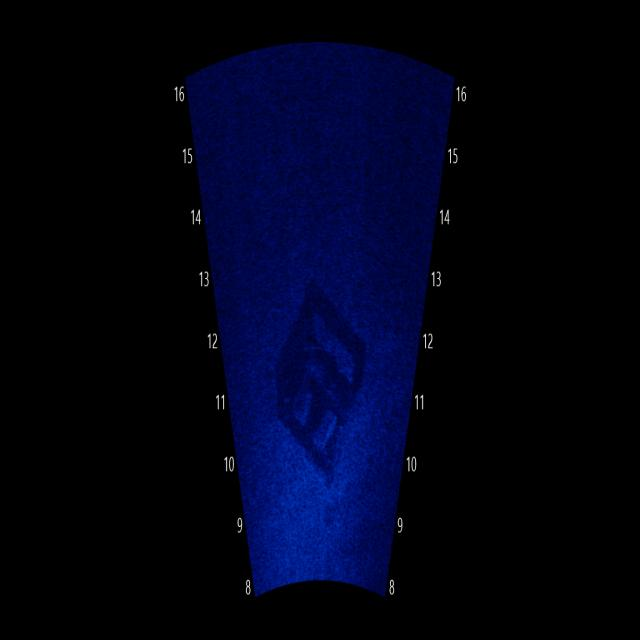square: (261, 284, 377, 504)
